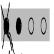correct: (16, 16, 22, 36)
not correct: (0, 3, 14, 51)
